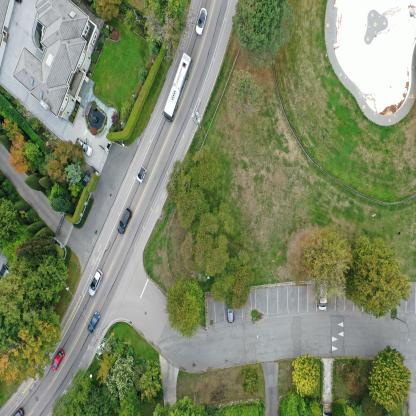Coniferous Tree: (348, 238, 413, 316), (0, 309, 60, 380), (233, 0, 295, 65), (162, 158, 223, 224), (296, 228, 348, 301), (371, 346, 412, 410), (213, 250, 256, 310), (167, 277, 204, 338), (182, 230, 226, 275), (26, 255, 64, 307), (51, 371, 90, 416), (226, 68, 260, 118), (15, 234, 56, 268), (146, 14, 180, 51), (0, 266, 23, 313), (206, 200, 233, 236), (341, 360, 366, 390), (239, 364, 261, 395), (88, 384, 109, 416), (0, 195, 13, 246), (55, 144, 86, 162)
